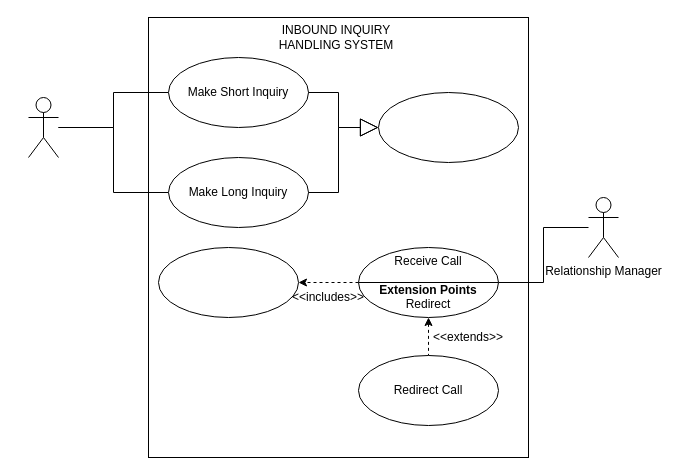
Image size: 679x475. Some labels were removed from this diagram. Here are the shapes that lost their labels. From the top down, the box of each, then its label:
(28, 96, 58, 158): Customer
(378, 92, 518, 162): Make Inquiry
(158, 246, 298, 318): Profiler Tool Matchmaking
